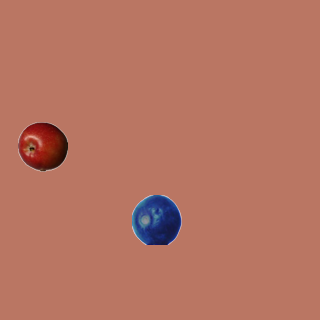Apple Braeburn: (17, 121, 67, 171)
Huckleberry: (131, 194, 181, 244)
